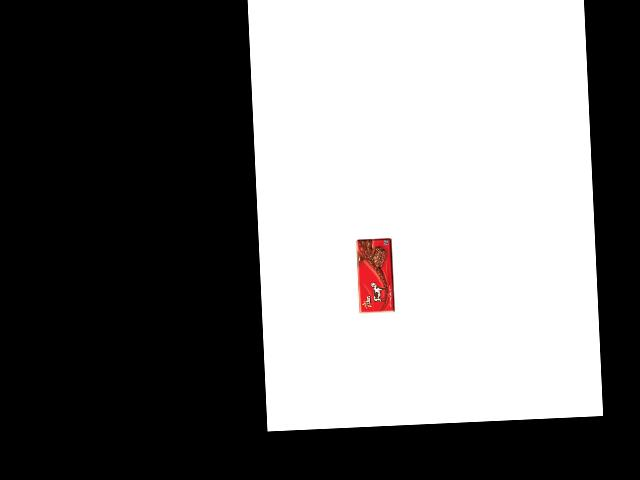chocolate: (348, 236, 388, 307)
